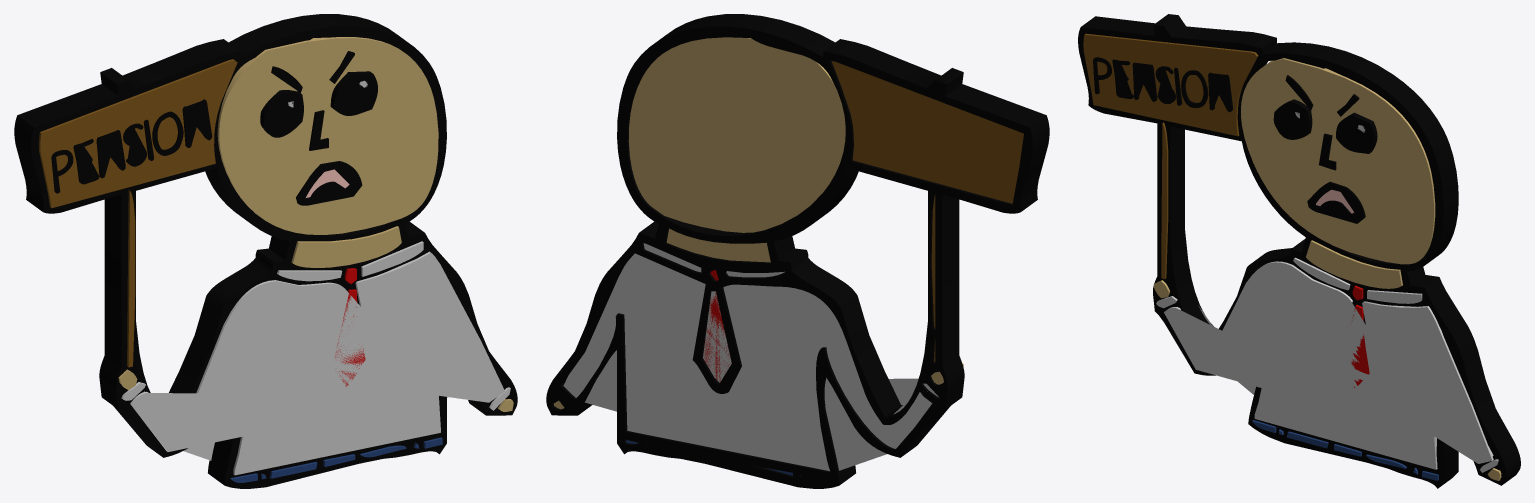
Rendered from ANGRYPENSION.fbx.
3 renders of one model, left to right at view 1: azimuth 30°, elevation 25°; view 2: azimuth 150°, elevation 25°; view 3: azimuth 330°, elevation 25°, orthographic. The views are drawn at different scales.
Parts seen in each view (by area): view 1: Cap_1_10, Cap_1_3, Cap_1_6, Extrude_3, Cap_1_11, Cap_1, Cap_1_5, Cap_1_9, Cap_1_4, Extrude_2, Cap_1_7, Extrude_1 (+4 smaller); view 2: Cap_2_10, Cap_2_3, Cap_2_6, Extrude_3, Cap_2_11, Cap_2_5, Cap_2_12; view 3: Cap_1_10, Cap_1_3, Extrude_3, Cap_1_6, Cap_1_11, Cap_1, Cap_1_5, Cap_1_9, Cap_1_4, Extrude_2, Cap_1_7, Extrude_1 (+2 smaller).
Part boxes in pixels (box(x1,y1,x2,y2)): Cap_1_10: box(123, 242, 510, 475); Cap_1_3: box(219, 38, 438, 234); Cap_1_6: box(31, 26, 517, 488); Extrude_3: box(14, 14, 503, 485); Cap_1_11: box(40, 60, 237, 367); Cap_1: box(51, 100, 212, 193); Cap_1_5: box(120, 227, 513, 411); Cap_1_9: box(263, 74, 377, 137); Cap_1_4: box(272, 52, 362, 205); Extrude_2: box(121, 241, 510, 474); Cap_1_7: box(232, 438, 442, 482); Extrude_1: box(38, 59, 234, 367); Cap_2_10: box(563, 243, 938, 471); Cap_2_3: box(628, 37, 845, 232); Cap_2_6: box(546, 26, 1032, 488); Extrude_3: box(551, 14, 1049, 485); Cap_2_11: box(831, 61, 1023, 361); Cap_2_5: box(554, 228, 943, 409); Cap_2_12: box(703, 270, 731, 381); Cap_1_10: box(1156, 258, 1497, 472); Cap_1_3: box(1241, 59, 1433, 264); Extrude_3: box(1081, 14, 1520, 488); Cap_1_6: box(1078, 25, 1506, 488); Cap_1_11: box(1083, 34, 1256, 278); Cap_1: box(1093, 57, 1231, 112); Cap_1_5: box(1153, 241, 1499, 480); Cap_1_9: box(1273, 101, 1374, 153); Cap_1_4: box(1285, 76, 1364, 223); Extrude_2: box(1158, 257, 1498, 469); Cap_1_7: box(1252, 421, 1437, 480); Extrude_1: box(1085, 33, 1258, 278).
Bounding box in the file's own units: 335 × 300 × 26.12.
